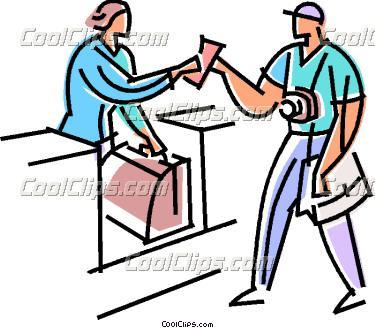person: (207, 1, 369, 309), (37, 6, 183, 172)
